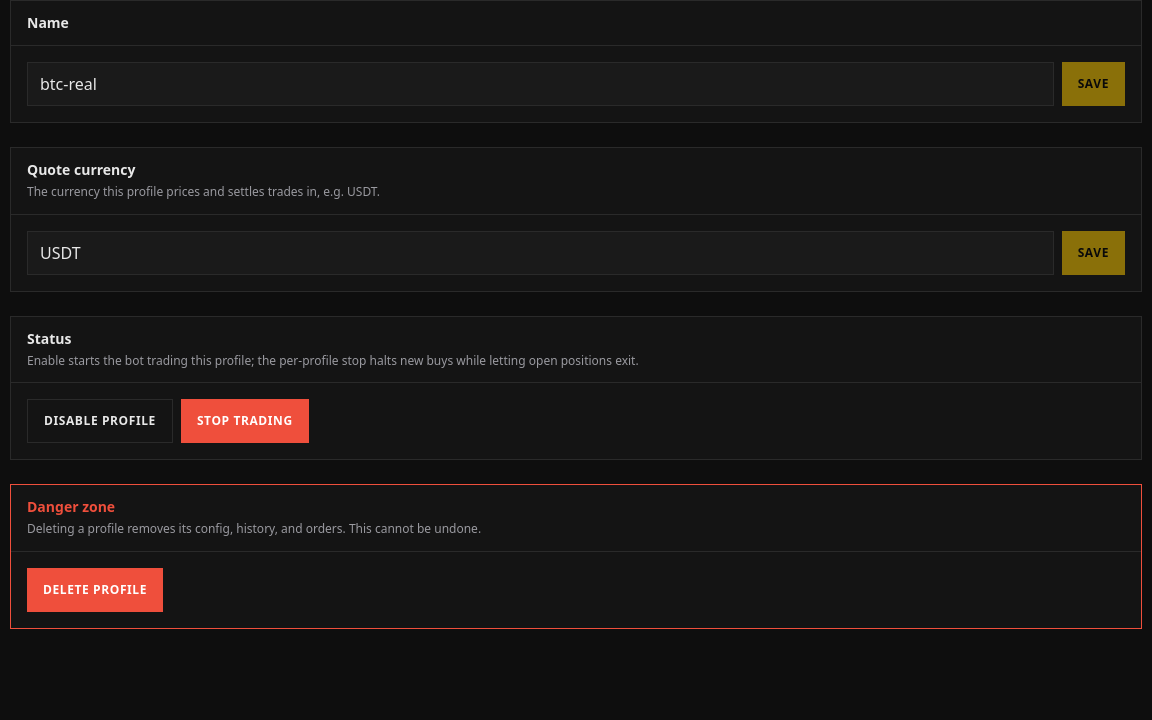
<ProfileGeneralPanel> › surfaces a toast and closes the dialog when the per-profile kill rejects
Click the button with test id "profile-general-kill" at [245, 421], box [181,399,309,443]
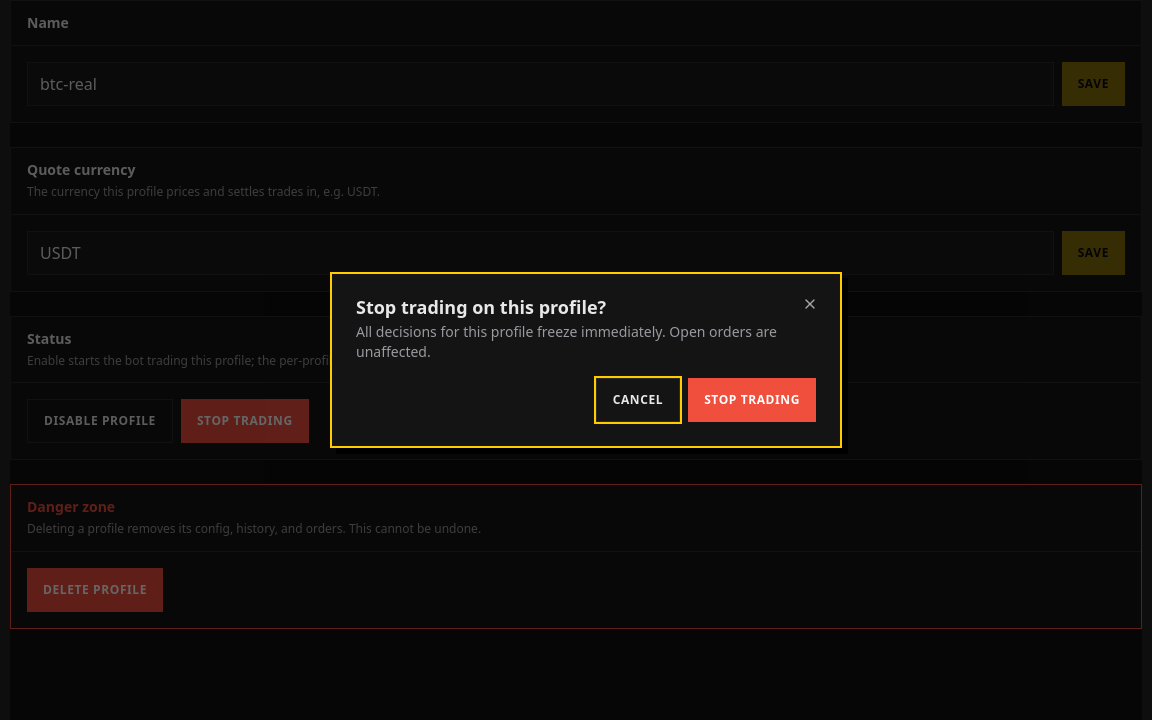
Click the button with test id "profile-general-kill-confirm" at [752, 400], box [688,378,816,422]
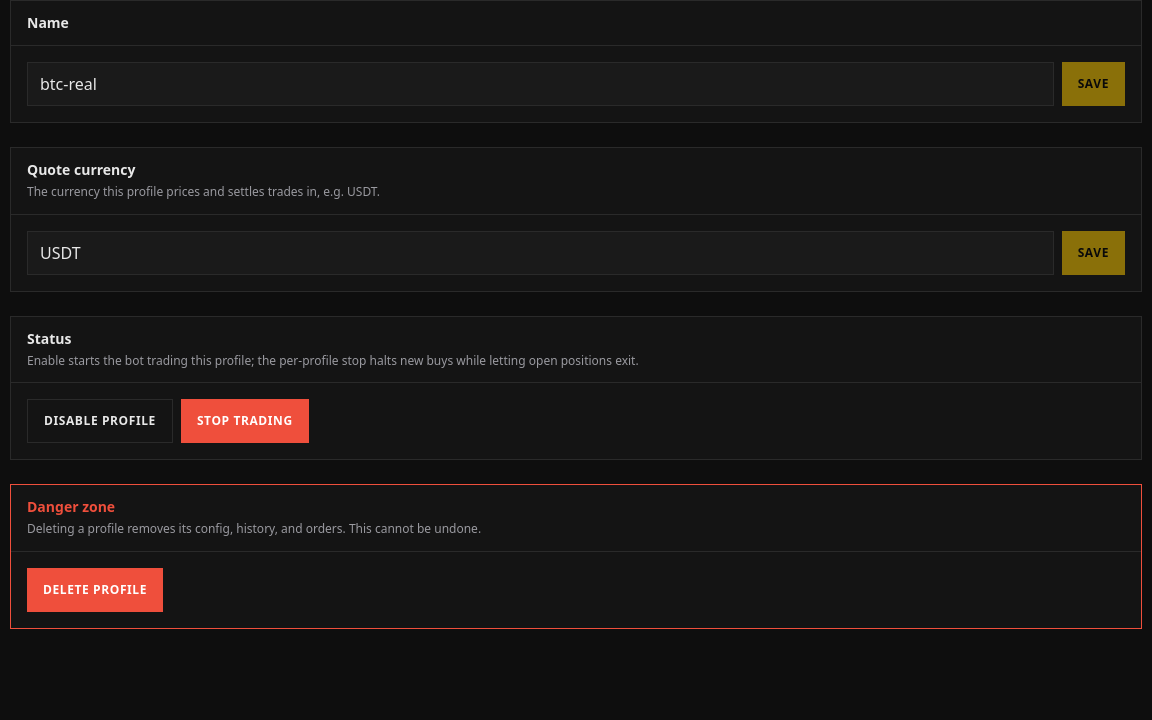
expect the dialog with test id "profile-general-kill-dialog" is gone: met
